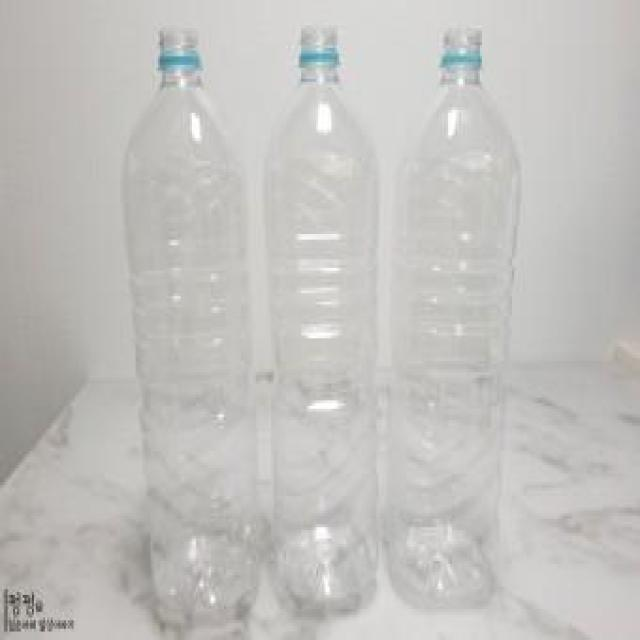bottle: (120, 21, 264, 622), (386, 29, 526, 604), (263, 26, 387, 606)
